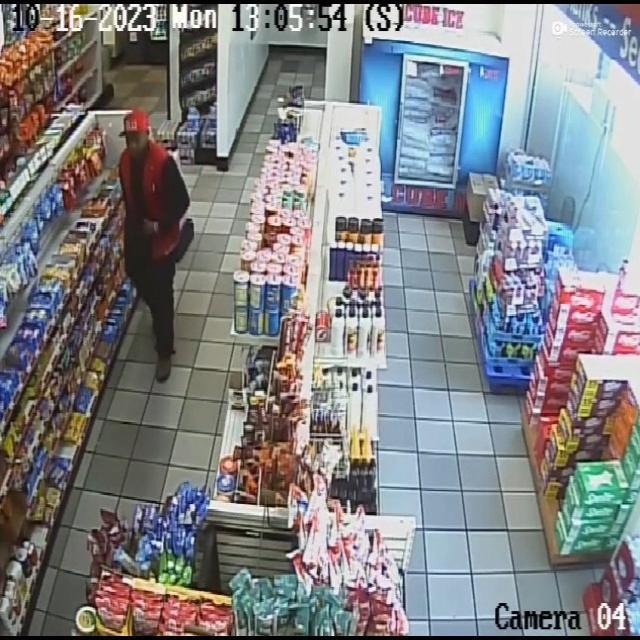Shoplifting: (119, 108, 192, 382)
